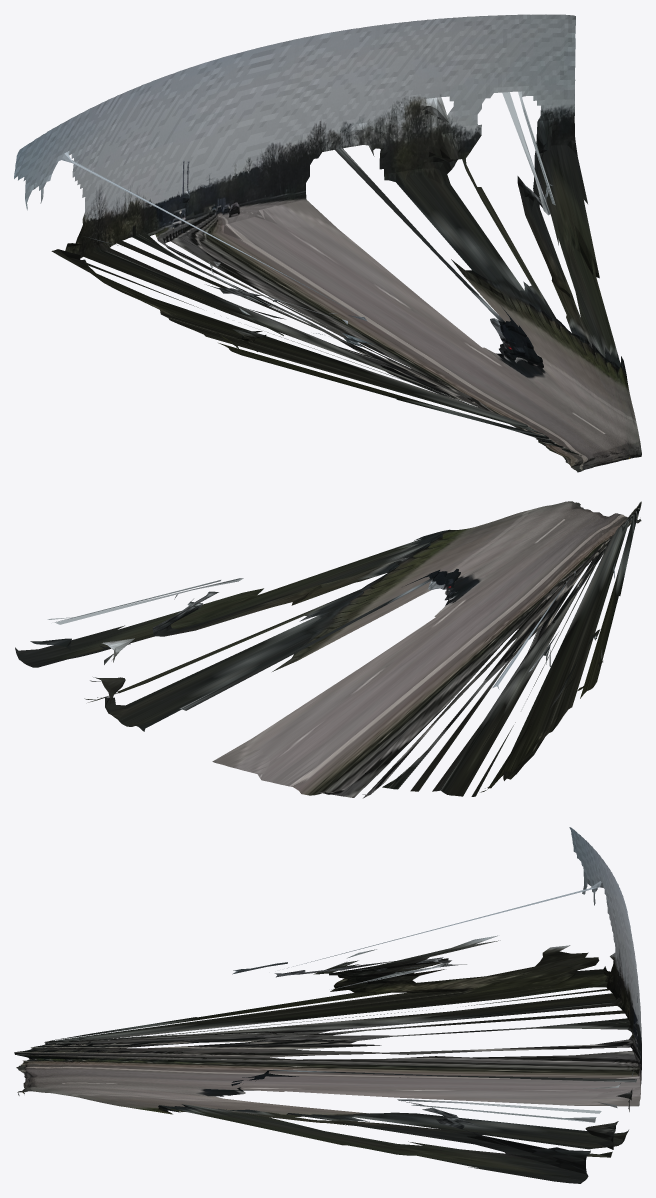
3 views of the same model, one above another, from view 1: azimuth 30°, elevation 25°; view 2: azimuth 150°, elevation 25°; view 3: azimuth 270°, elevation 25° (orthographic). The views are drawn at different scales.
Parts seen in each view (by area): view 1: defaultobject; view 2: defaultobject; view 3: defaultobject.
Part boxes in pixels (<box>): defaultobject: <box>14,14,641,472</box>; defaultobject: <box>15,501,641,798</box>; defaultobject: <box>14,827,641,1183</box>.
Bounding box in the file's own units: 40.95 × 12.46 × 44.79.
Materials: 1 (1 with a texture image).
